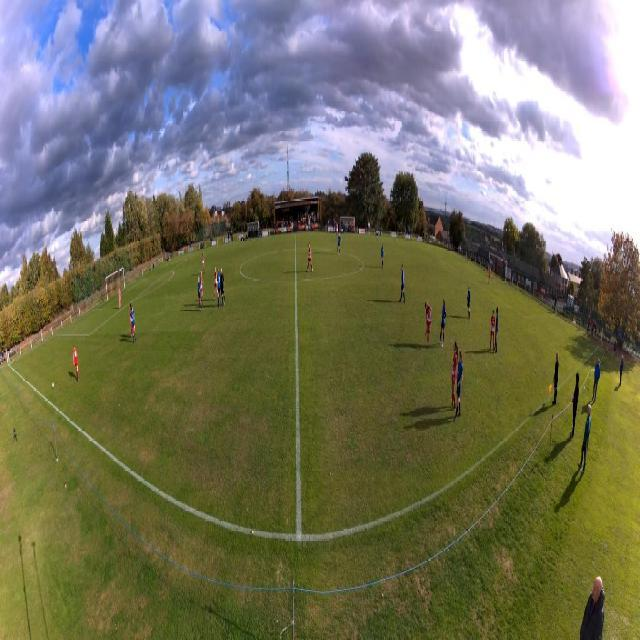ball: (51, 381, 54, 389)
player: (454, 351, 463, 421), (451, 342, 458, 410), (438, 299, 447, 348), (424, 301, 432, 347), (306, 242, 314, 272), (399, 264, 405, 303), (73, 343, 79, 381), (131, 306, 137, 344), (490, 310, 495, 354), (220, 268, 225, 308), (495, 307, 499, 354), (130, 302, 135, 338), (213, 266, 218, 302), (217, 267, 221, 307), (467, 283, 471, 320), (198, 276, 202, 312), (200, 271, 204, 306), (337, 233, 342, 255), (381, 244, 385, 269), (202, 253, 205, 274), (118, 289, 121, 309), (488, 267, 491, 285), (336, 222, 338, 237)
